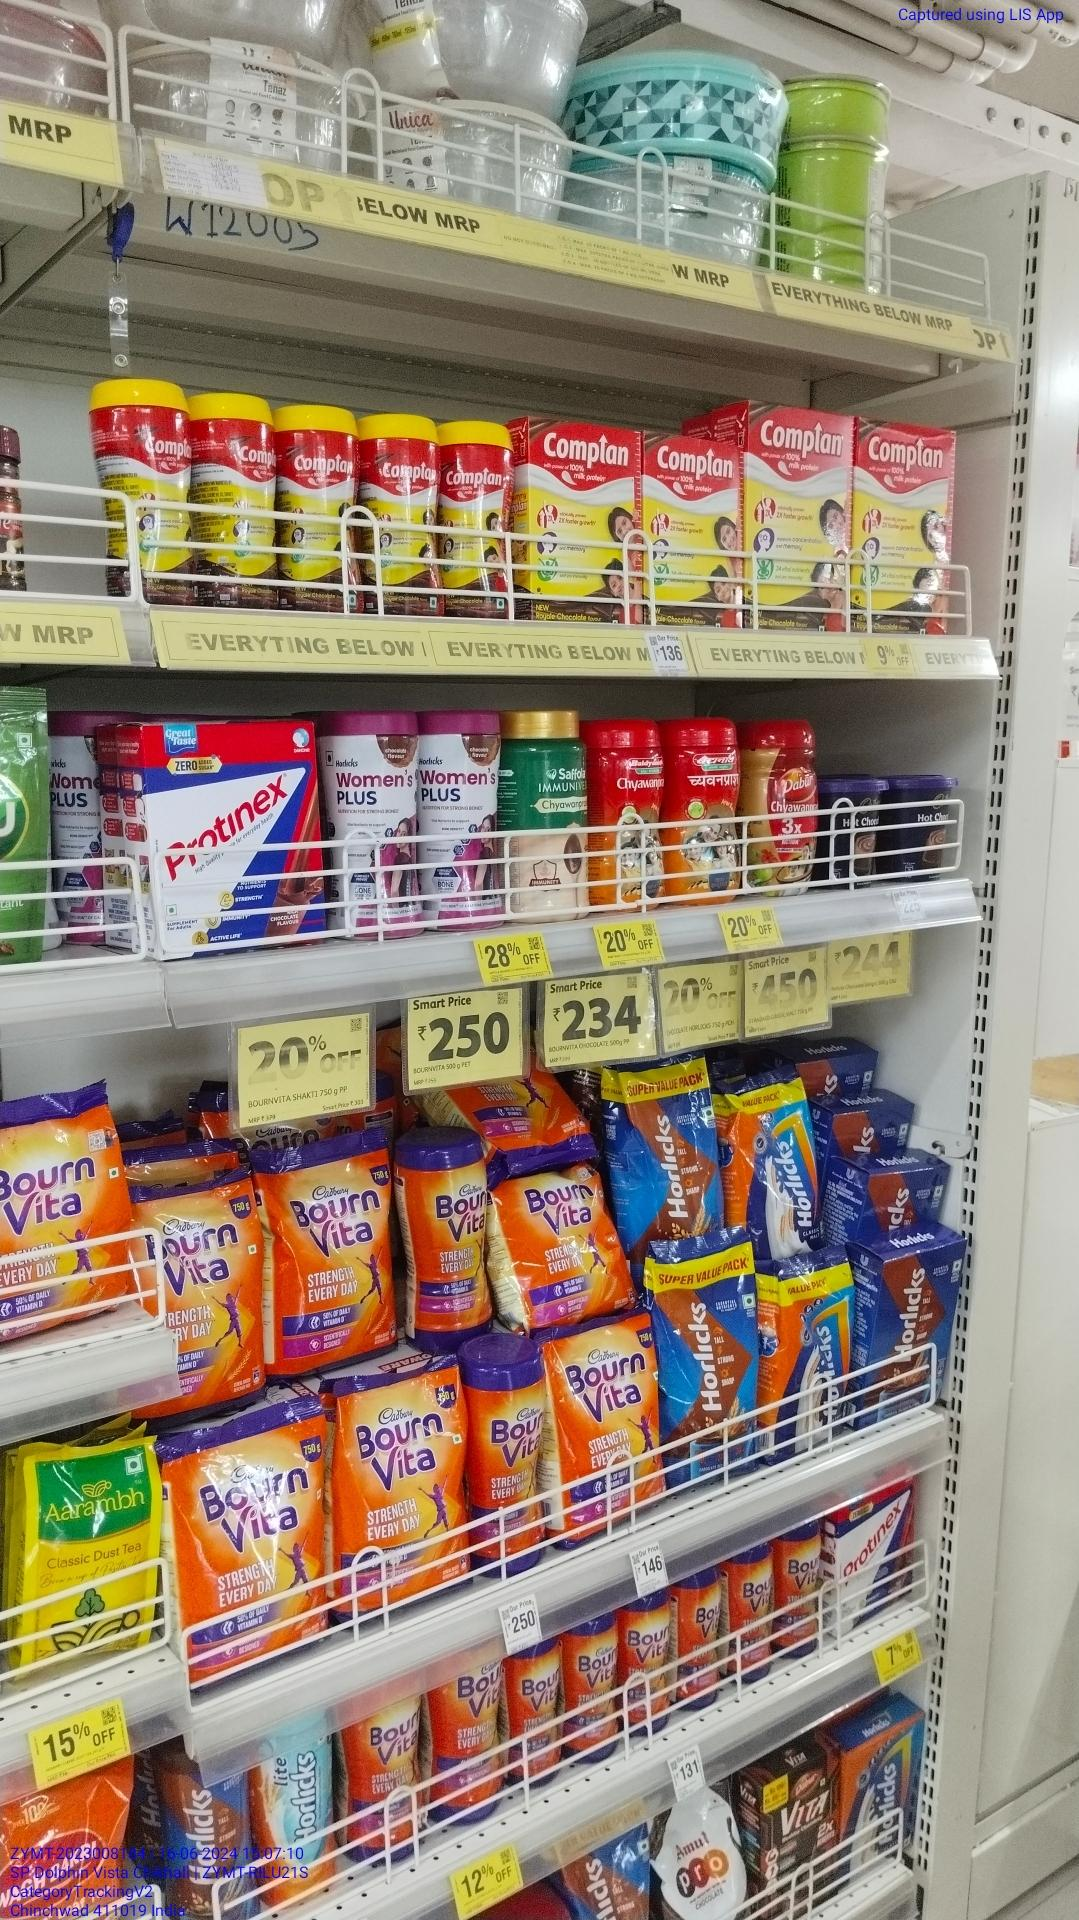BOURN_VITA_200_G_JAR: (563, 1614, 621, 1763), (510, 1634, 563, 1793), (624, 1596, 673, 1747), (679, 1563, 723, 1712), (780, 1527, 827, 1662), (731, 1549, 773, 1685)
BOURN_VITA_500_G_JAR: (418, 1141, 495, 1345), (472, 1357, 541, 1578)
COMPLAN_CHOCOLATE_200_GMS_JAR: (106, 375, 198, 603), (200, 392, 278, 612), (281, 401, 360, 616), (363, 413, 441, 618), (442, 415, 512, 620)
COMPLAN_CHOCOLATE_200_GMS_PACK: (529, 418, 642, 625), (646, 431, 745, 625)
HORLICKS_LITE_REGULAR_MALT_500_GM_JAR: (259, 1716, 338, 1909)
HORLICK_CHOCOLATE_500_G_JAR: (156, 1738, 245, 1920)
HORLICK_CLASSIC_MALT_500_G_PACK: (842, 1741, 917, 1867)
